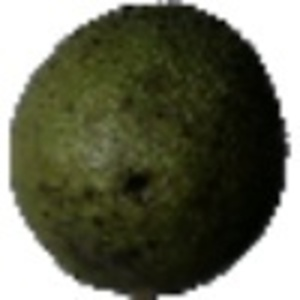abacate: (7, 2, 286, 292)
